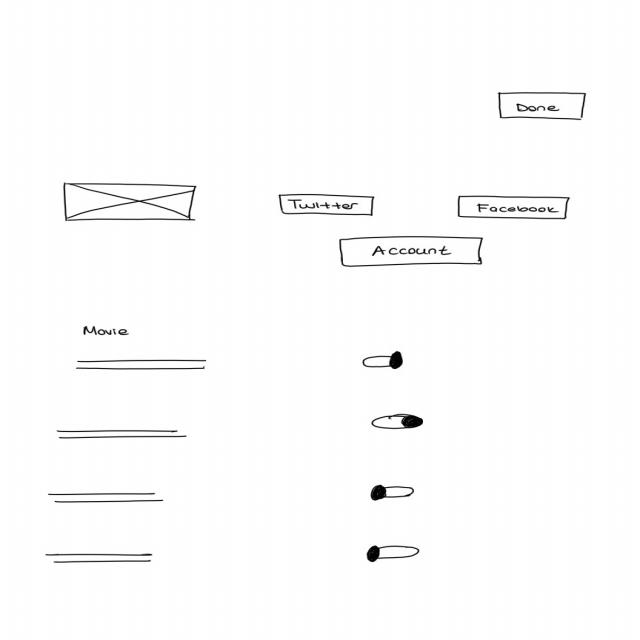button: (339, 236, 485, 268), (457, 195, 571, 221), (498, 91, 588, 122), (278, 194, 377, 217)
image: (63, 183, 197, 223)
label: (81, 326, 132, 338)
textbox: (48, 490, 172, 507), (57, 428, 191, 442), (76, 360, 210, 373), (47, 552, 156, 567)
toggle: (365, 544, 423, 565), (371, 413, 426, 433), (362, 351, 406, 373), (370, 484, 418, 503)
